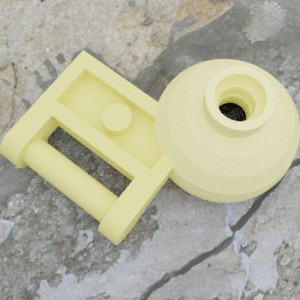lego: (0, 50, 200, 245), (152, 59, 300, 202)
